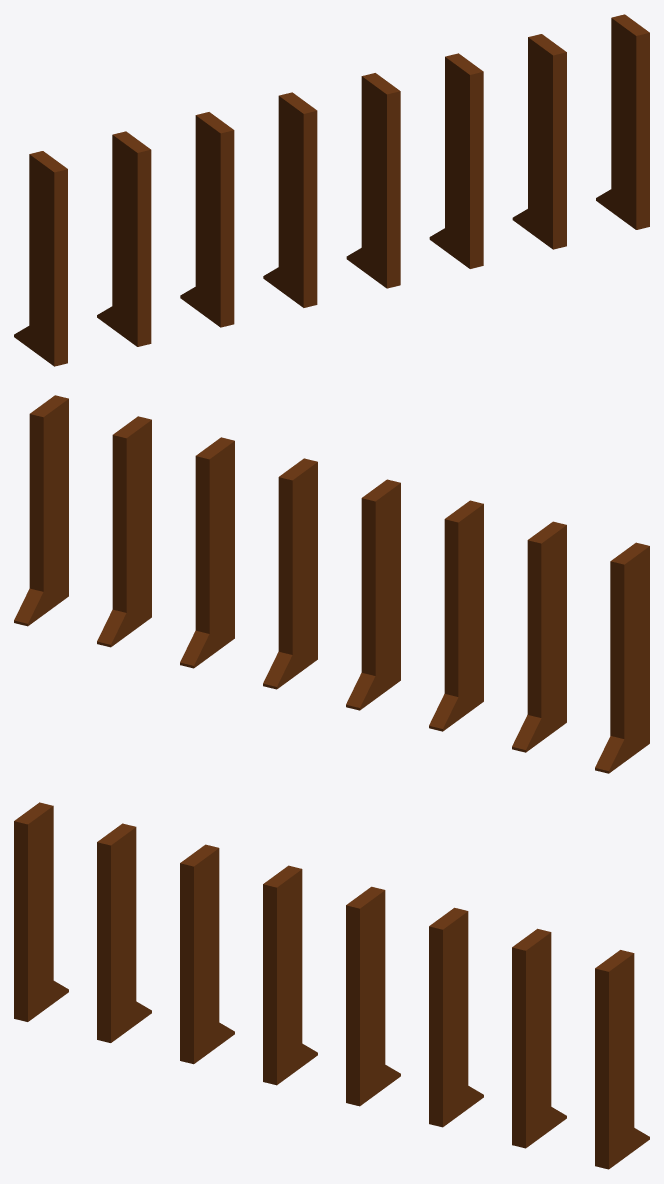
Rendered from Pillar prop.fbx.
3 renders of one model, top to bottom at view 1: azimuth 30°, elevation 25°; view 2: azimuth 150°, elevation 25°; view 3: azimuth 330°, elevation 25°, orthographic.
Parts seen in each view (by area): view 1: Cube.002; view 2: Cube.002; view 3: Cube.002.
Boxes of the visible parts, <box> form: Cube.002: <box>14,14,649,366</box>; Cube.002: <box>14,395,649,773</box>; Cube.002: <box>14,802,649,1169</box>.
Size of the model in its own units: 1190 by 374 by 161.
